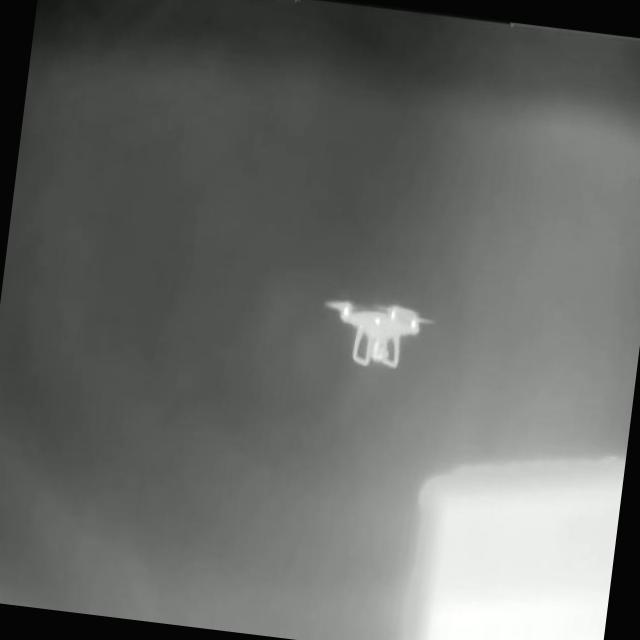DRONE: (322, 297, 437, 370)
